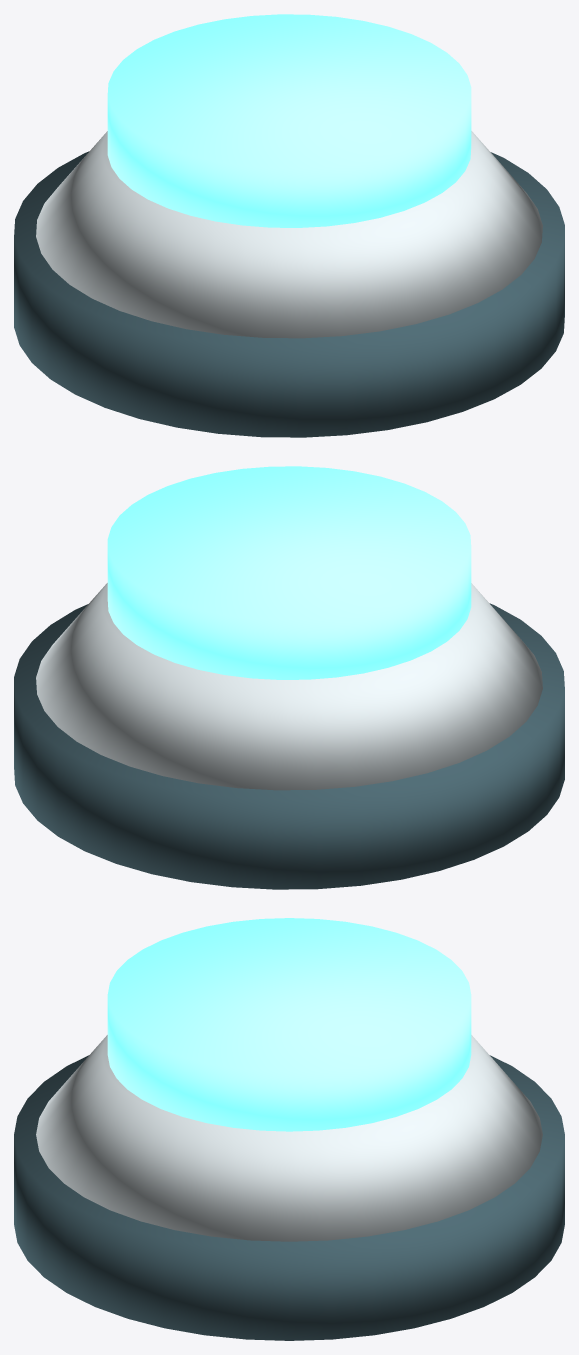
The model's file is bumper.glb.
3 views of the same model, one above another, from view 1: azimuth 30°, elevation 25°; view 2: azimuth 150°, elevation 25°; view 3: azimuth 270°, elevation 25° (orthographic).
Visible parts, largest first — view 1: cap, base, skirt; view 2: cap, base, skirt; view 3: cap, base, skirt.
Part boxes in pixels (bbox=[...]): cap: bbox=[107, 14, 471, 227]; base: bbox=[14, 151, 564, 437]; skirt: bbox=[36, 131, 542, 338]; cap: bbox=[107, 466, 471, 679]; base: bbox=[14, 603, 564, 889]; skirt: bbox=[36, 583, 542, 790]; cap: bbox=[107, 918, 471, 1131]; base: bbox=[14, 1055, 564, 1340]; skirt: bbox=[36, 1035, 542, 1241].
Bounding box in the file's own units: 1 × 0.46 × 1.
